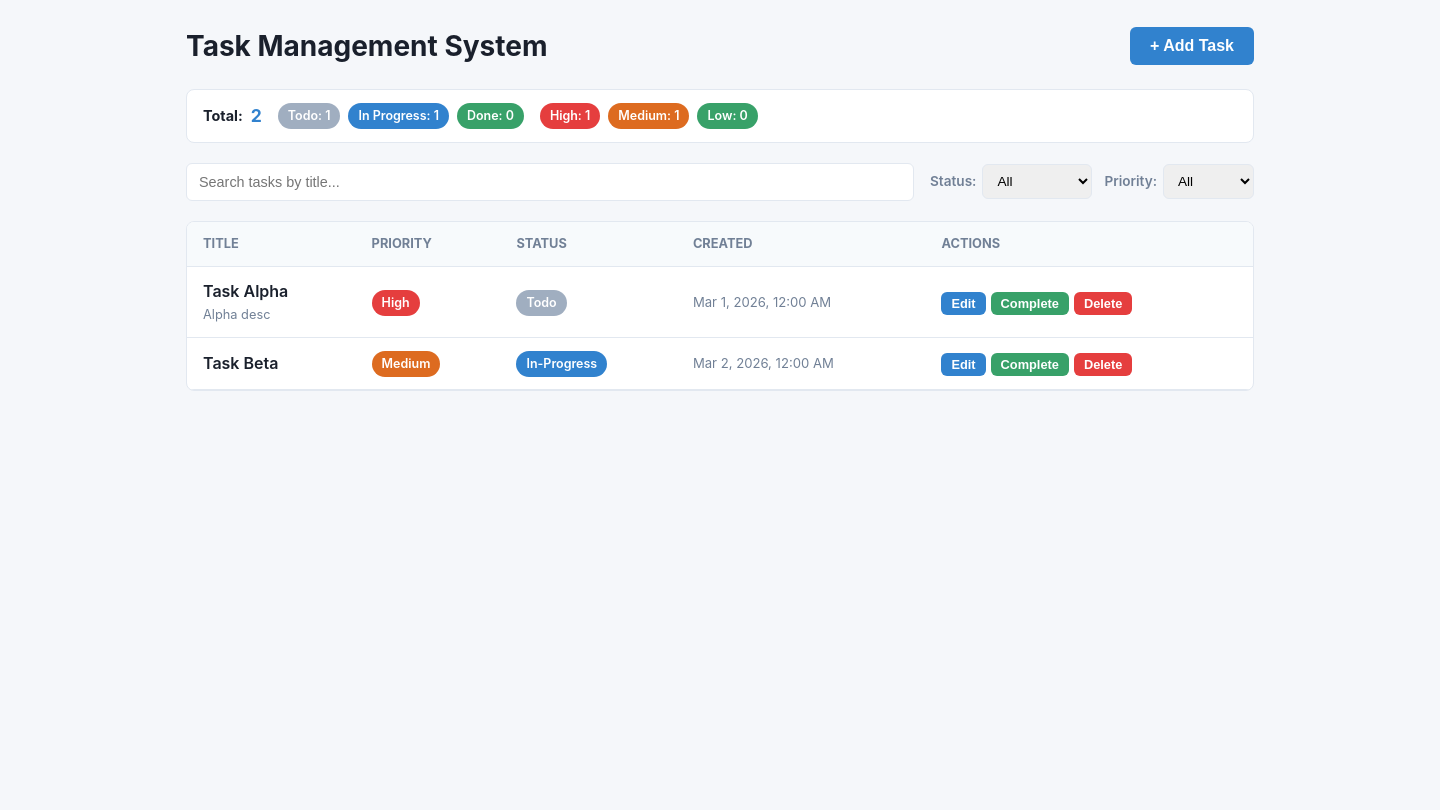
it: App › opens Edit Task modal
This screenshot has width=1440, height=810.
Expected: the text "Task Alpha" is shown, [203,281,288,301]
Click the button with aria-label "Edit Task Alpha": x=964, y=303 [941,292,986,315]
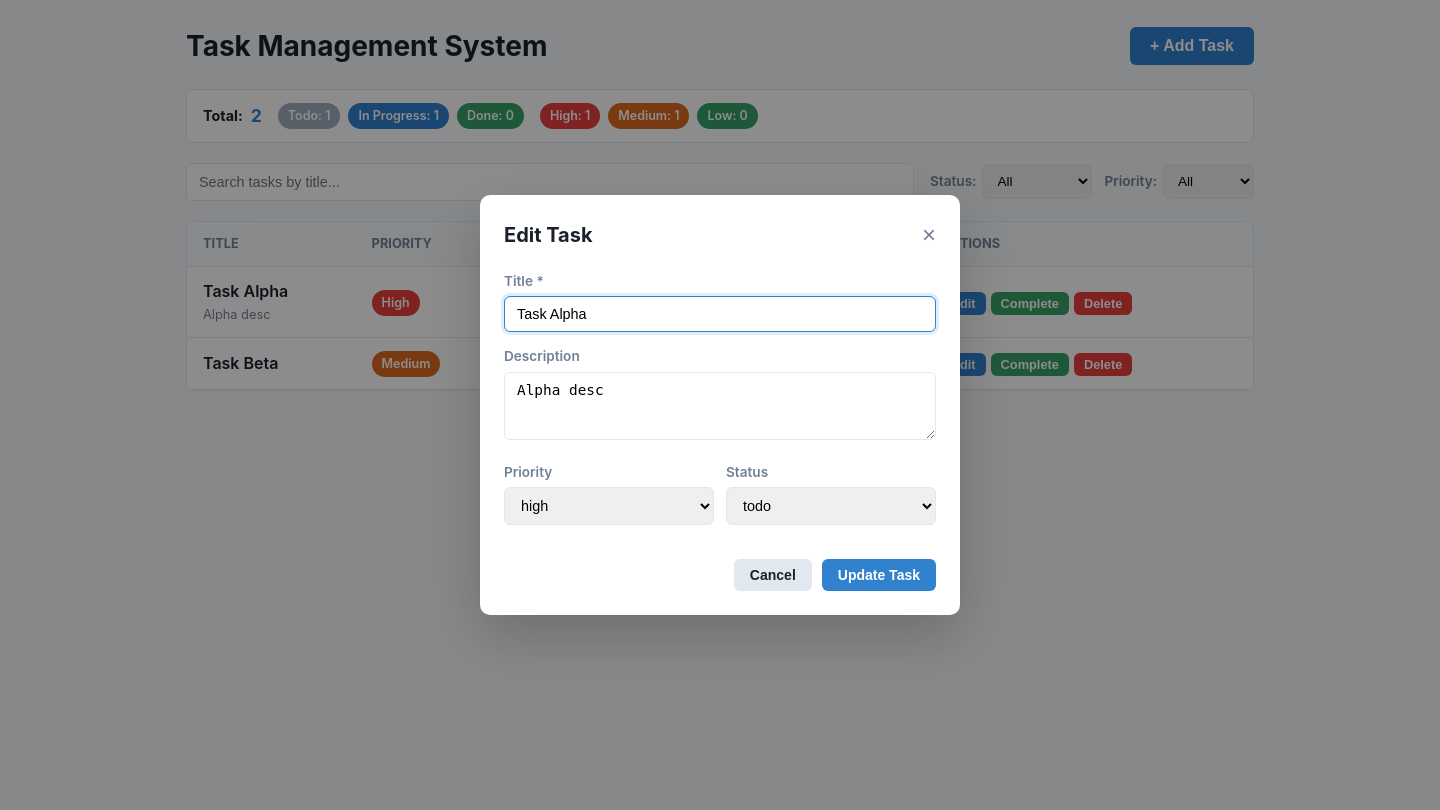
Expected: the heading "Edit Task" is shown, [504,219,592,251]
Expected: the field labelled "Title *" holds "Task Alpha", [504,296,936,332]
